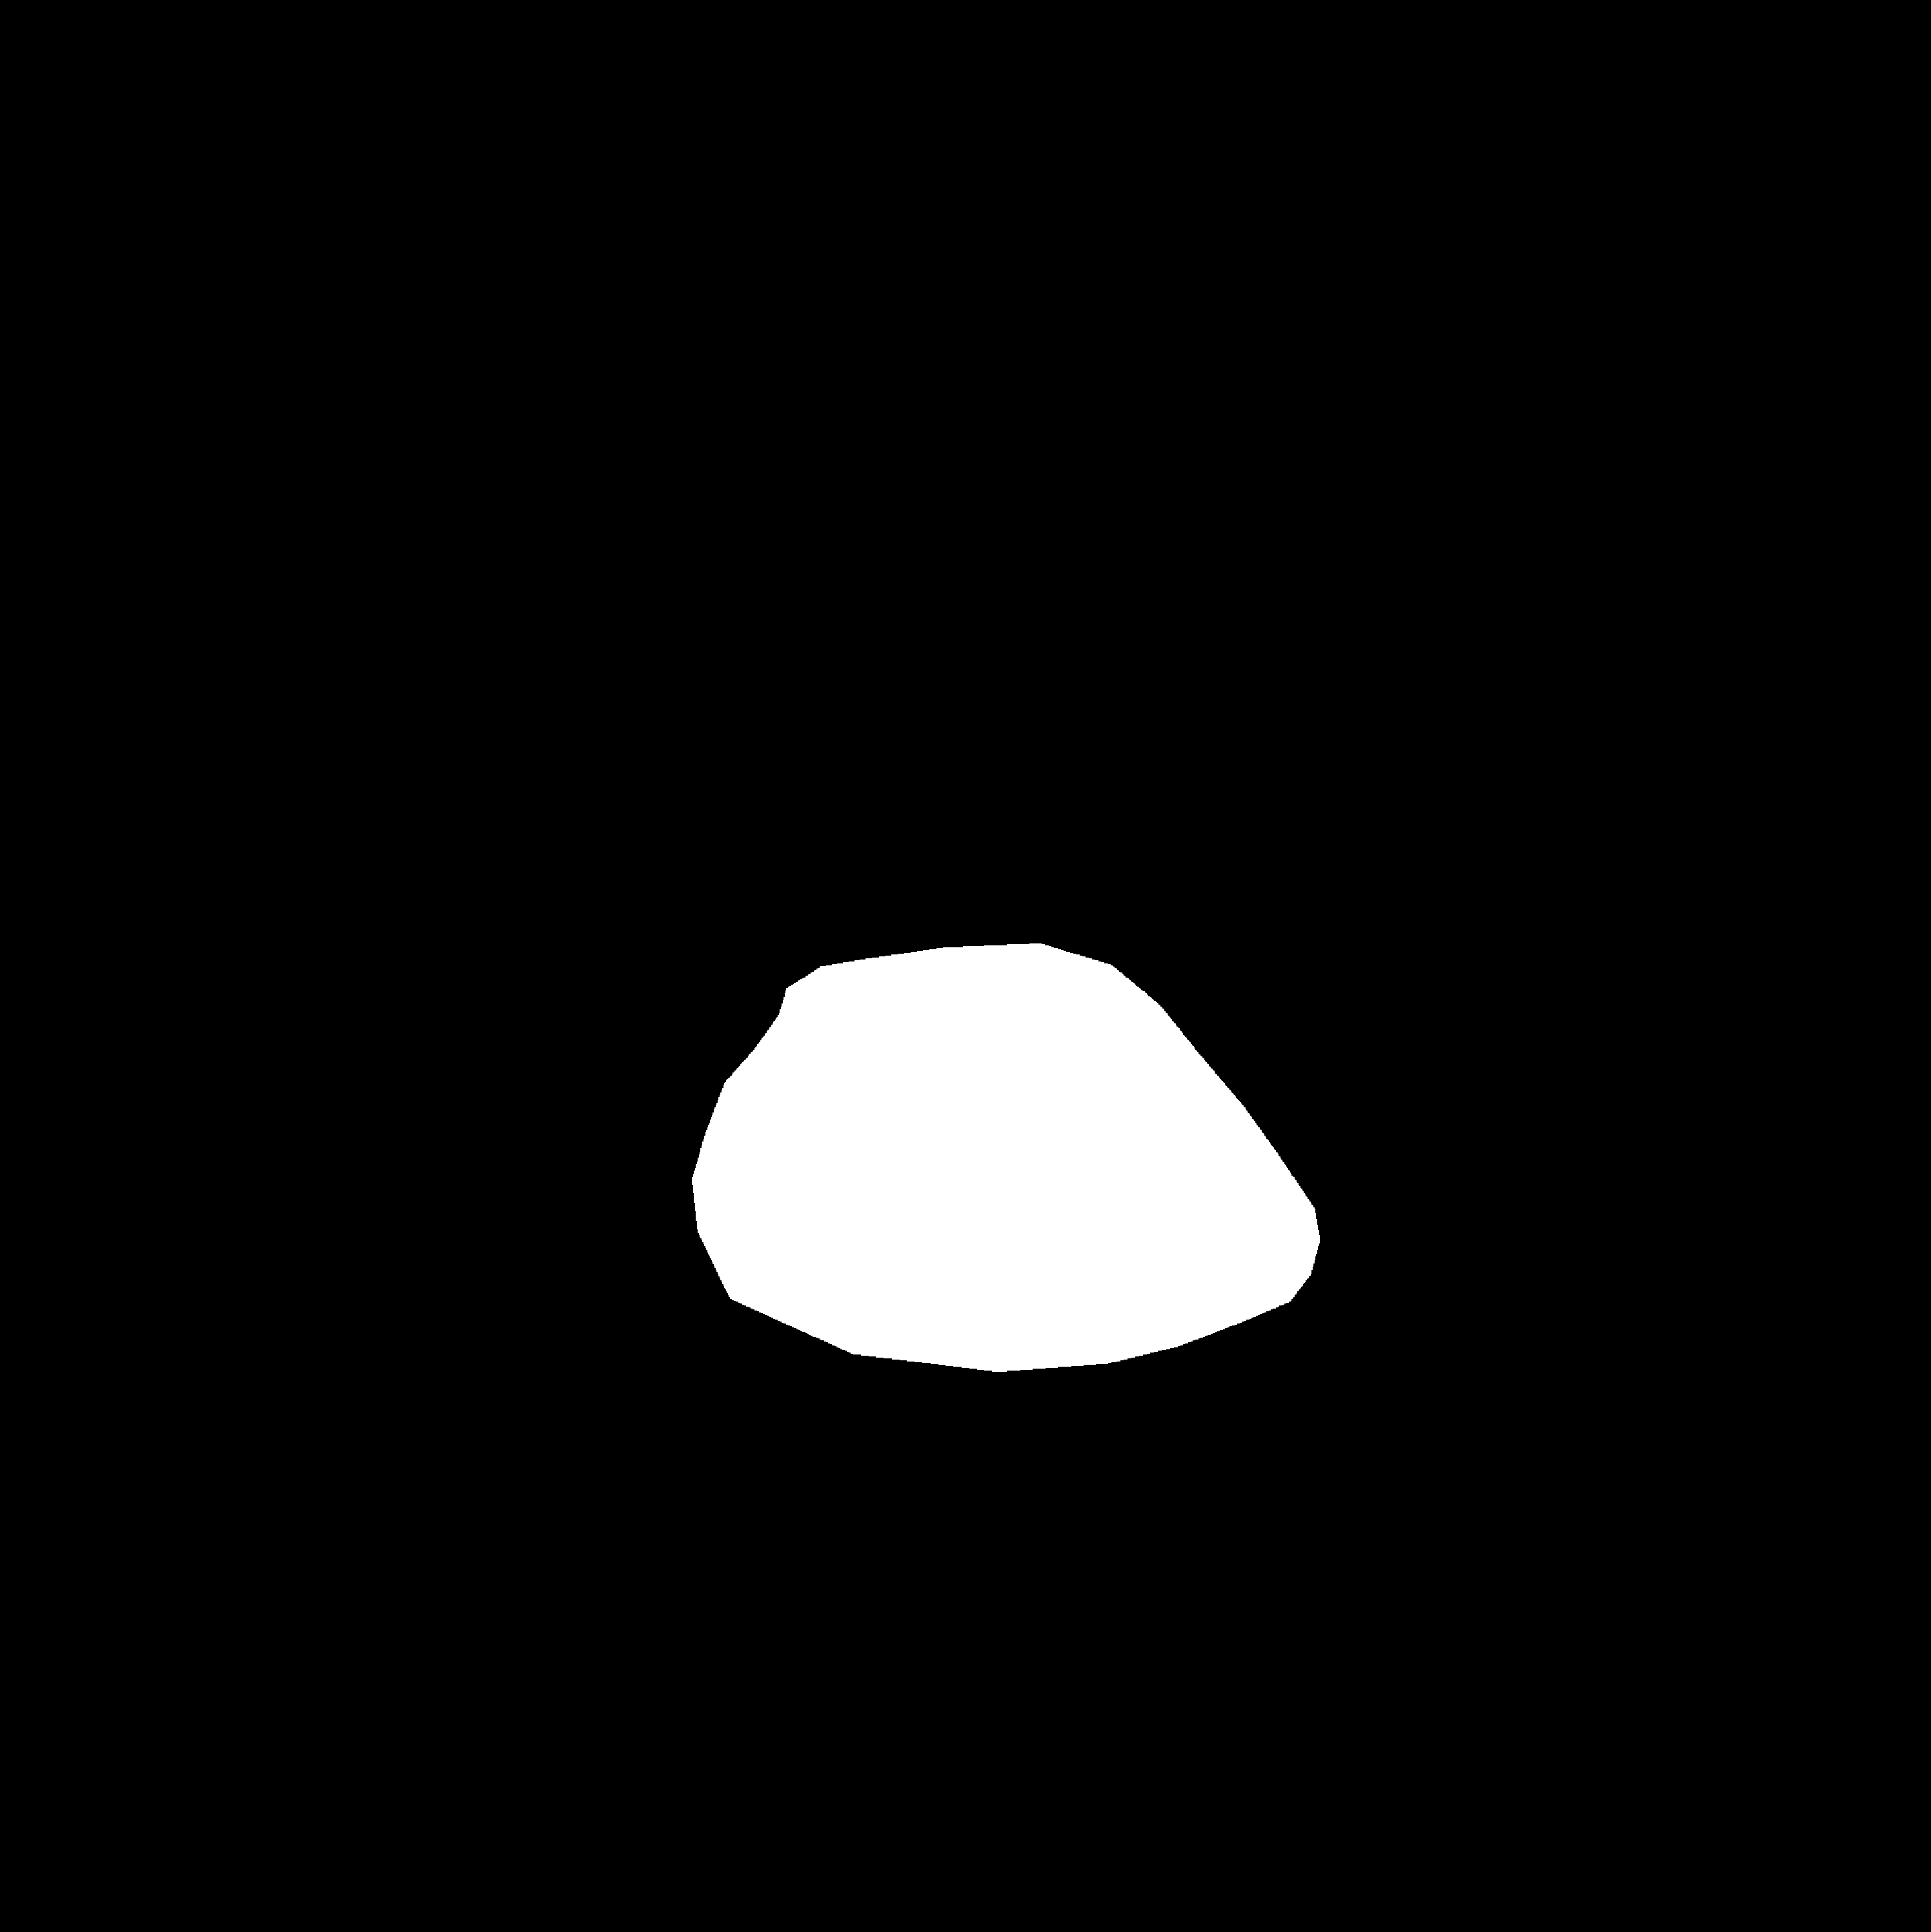heart: (675, 1032, 1333, 1342)
left_lung: (286, 449, 843, 1416)
right_lung: (964, 430, 1558, 1400)
